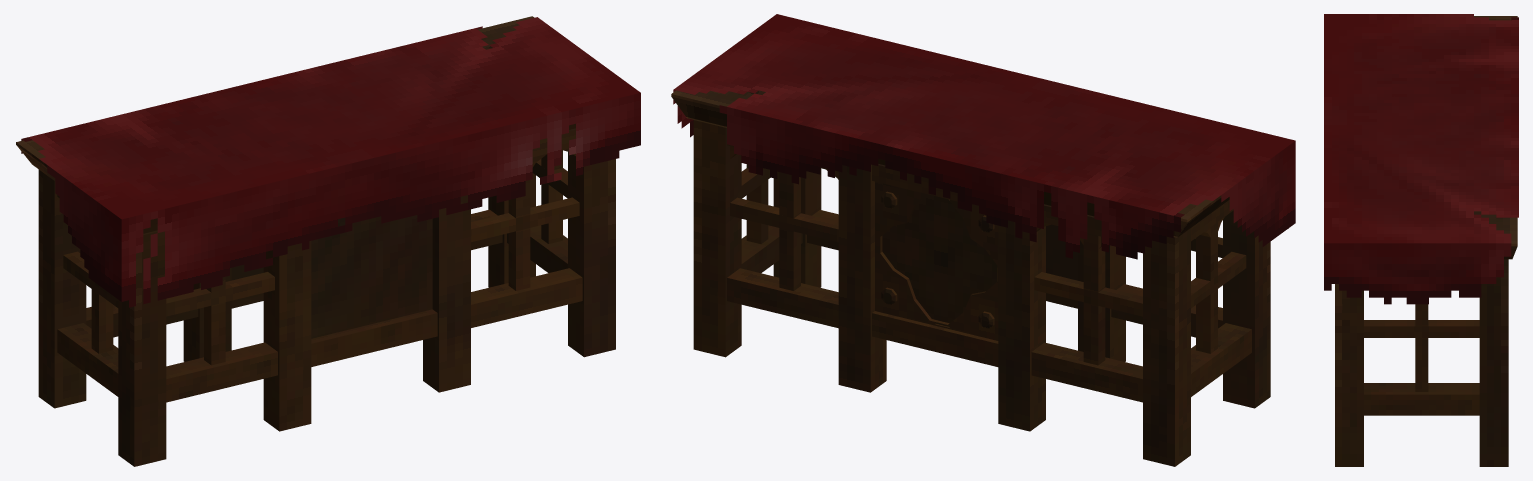
Rendered from MDL_Table.glb.
3 views of the same model, side by side, from view 1: azimuth 30°, elevation 25°; view 2: azimuth 150°, elevation 25°; view 3: azimuth 270°, elevation 25° (orthographic). The views are drawn at different scales.
Parts seen in each view (by area): view 1: MDL_Cloth, MDL_Table; view 2: MDL_Table, MDL_Cloth; view 3: MDL_Cloth, MDL_Table.
Boxes of the visible parts, left/top/right/bottom form: MDL_Cloth: left=21, top=17, right=640, bottom=307; MDL_Table: left=16, top=16, right=615, bottom=466; MDL_Table: left=671, top=90, right=1270, bottom=466; MDL_Cloth: left=673, top=14, right=1295, bottom=259; MDL_Cloth: left=1324, top=14, right=1518, bottom=304; MDL_Table: left=1335, top=16, right=1517, bottom=466.
Bounding box in the file's own units: 2.26 × 1.07 × 0.8125.
1 material, 1 textured.
